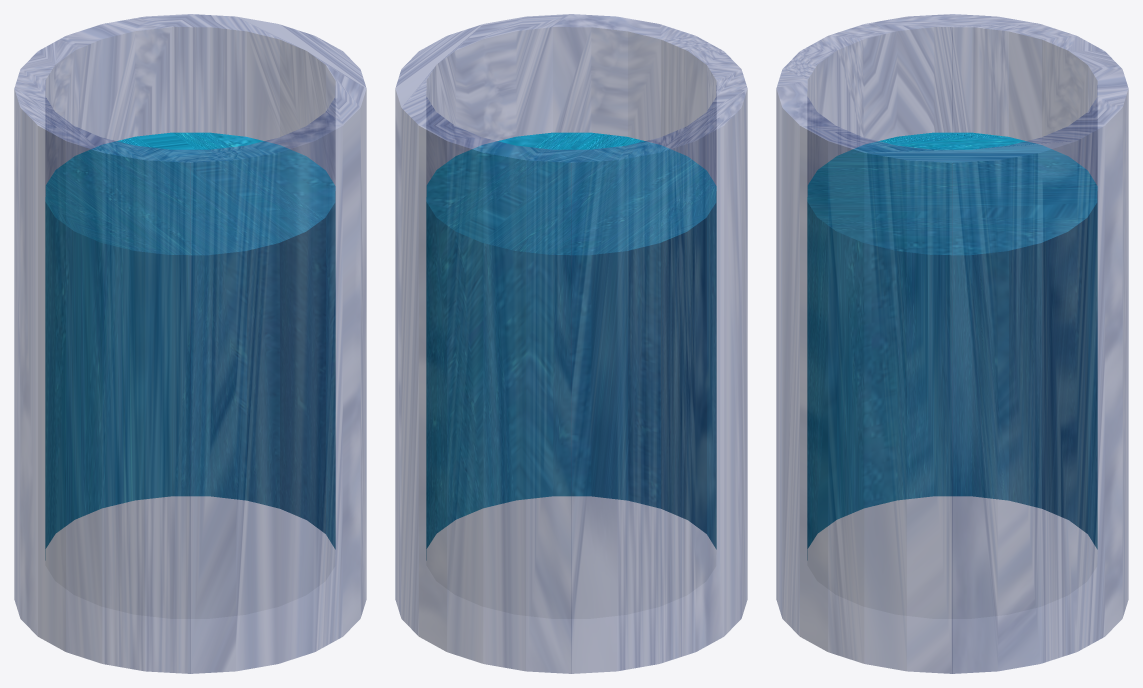
The model's file is Cpt Model.3ds (1).glb.
3 renders of one model, left to right at view 1: azimuth 30°, elevation 25°; view 2: azimuth 150°, elevation 25°; view 3: azimuth 270°, elevation 25°, orthographic.
Parts seen in each view (by area): view 1: Model; view 2: Model; view 3: Model.
Part boxes in pixels (x1=…): Model: x1=14, y1=14, x2=366, y2=673; Model: x1=395, y1=14, x2=747, y2=673; Model: x1=776, y1=14, x2=1128, y2=673.
Bounding box in the file's own units: 0.06 × 0.096 × 0.06.
3 materials, 2 textured.
